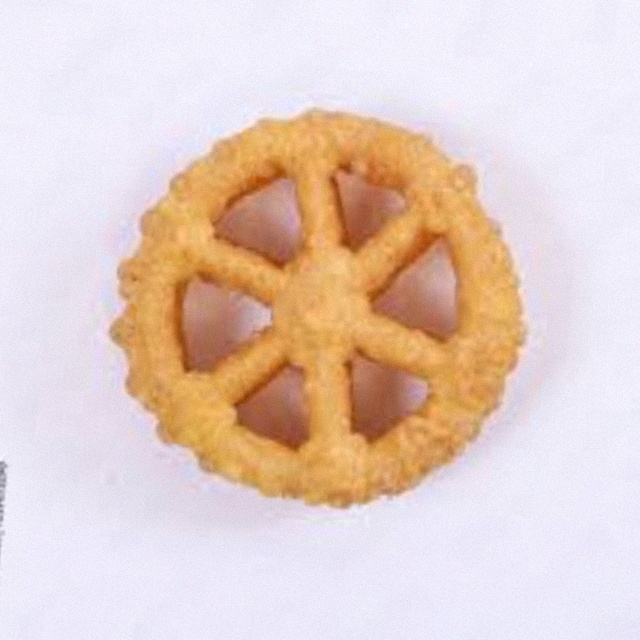Kokis: (71, 71, 569, 569)
